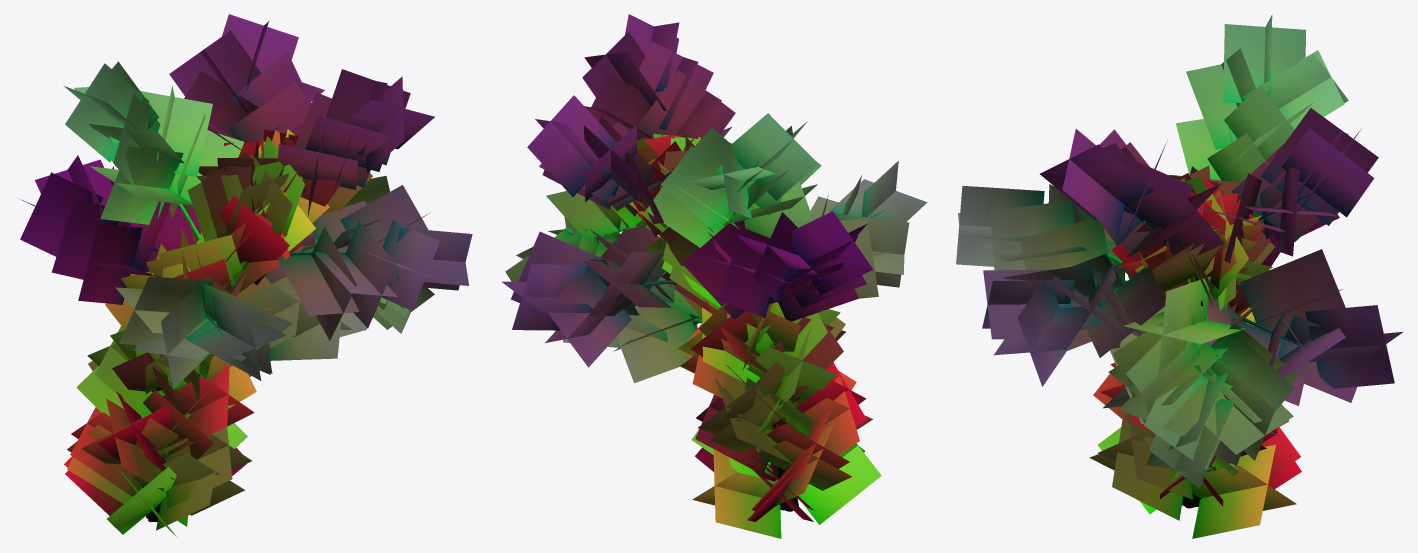
Rendered from URP_P3_Tree_14_LOD_1.fbx.
The picture shows the model from 3 angles, left to right: view 1: azimuth 30°, elevation 25°; view 2: azimuth 150°, elevation 25°; view 3: azimuth 270°, elevation 25°; orthographic projection. The views are drawn at different scales.
Visible parts, largest first — view 1: Tree_14_LOD_1; view 2: Tree_14_LOD_1; view 3: Tree_14_LOD_1.
Boxes of the visible parts, x1,y1,x2,y2 form: Tree_14_LOD_1: (20, 14, 472, 537); Tree_14_LOD_1: (502, 14, 927, 538); Tree_14_LOD_1: (956, 14, 1403, 538).
Bounding box in the file's own units: 618 × 686 × 556.
